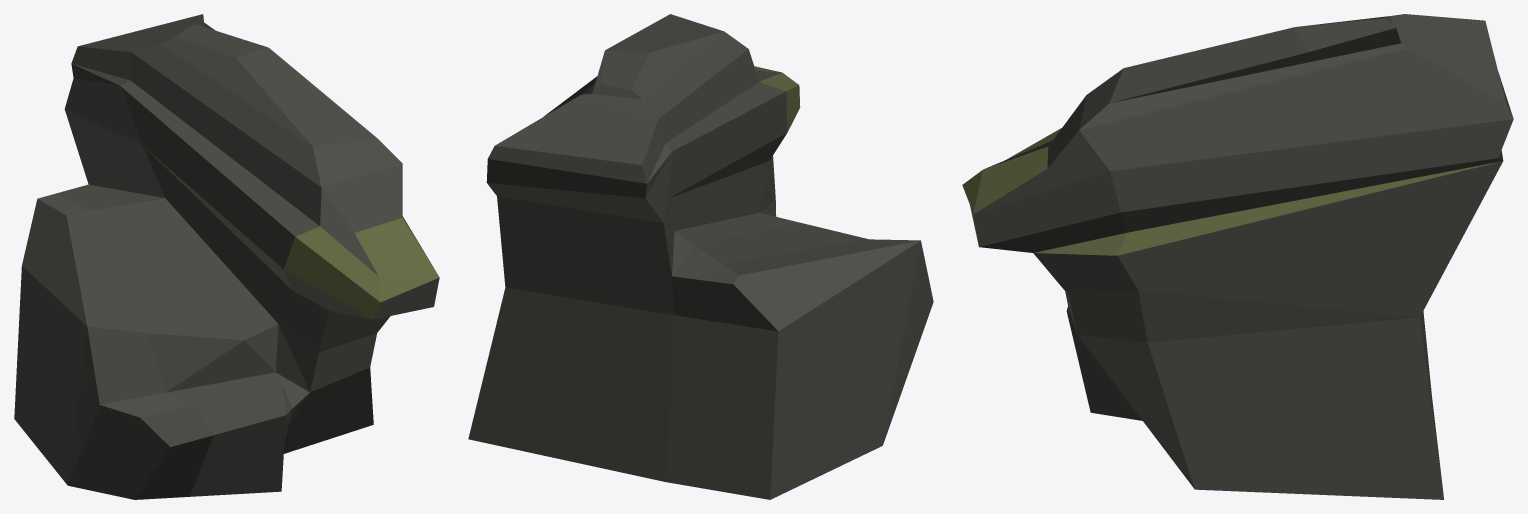
Rendered from Cliff_Big_002.fbx.
3 views of the same model, side by side, from view 1: azimuth 30°, elevation 25°; view 2: azimuth 150°, elevation 25°; view 3: azimuth 270°, elevation 25° (orthographic). The views are drawn at different scales.
Parts seen in each view (by area): view 1: Rock_1.002; view 2: Rock_1.002; view 3: Rock_1.002.
Part boxes in pixels (left/top/right/bottom): Rock_1.002: left=14, top=14, right=439, bottom=499; Rock_1.002: left=468, top=14, right=933, bottom=499; Rock_1.002: left=962, top=14, right=1513, bottom=499.
Bounding box in the file's own units: 1473 × 1582 × 1924.
